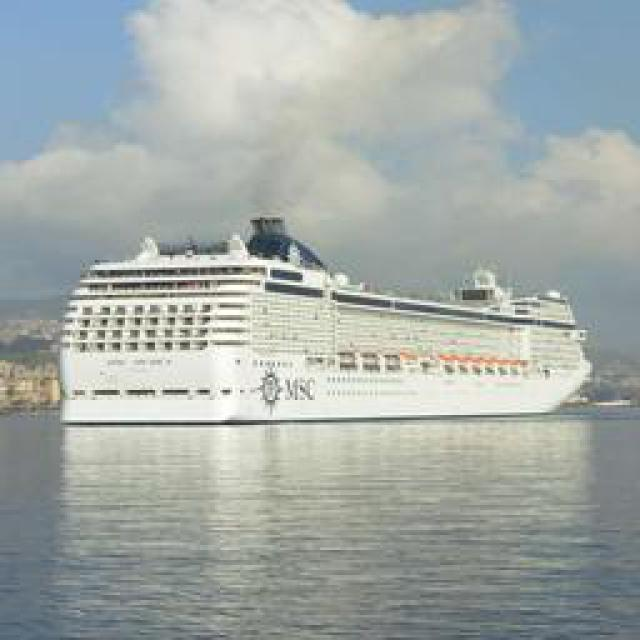Ship: (57, 210, 600, 428)
